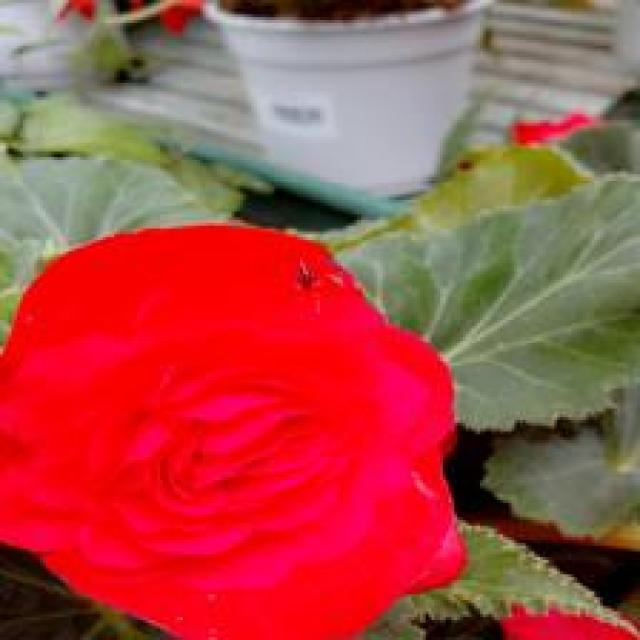Aedes albopictus: (0, 220, 469, 640)
